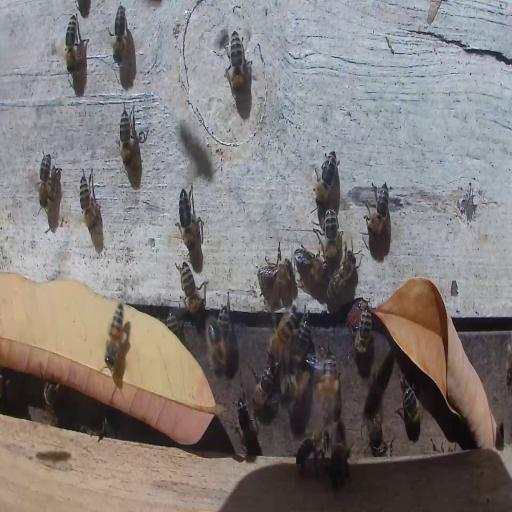bee: (328, 237, 358, 301), (103, 300, 128, 373), (315, 352, 340, 424), (312, 148, 339, 208), (177, 184, 201, 250), (177, 262, 203, 318), (295, 430, 330, 471), (266, 313, 296, 360), (365, 180, 391, 234), (208, 320, 230, 381), (79, 168, 99, 235), (258, 258, 293, 296), (236, 394, 257, 456), (352, 300, 374, 356), (329, 436, 352, 488), (228, 30, 246, 95), (319, 207, 340, 262), (400, 378, 422, 428), (118, 106, 135, 169), (253, 366, 276, 412), (111, 3, 127, 65), (296, 251, 328, 282), (294, 307, 312, 357), (38, 150, 52, 212), (65, 13, 77, 76), (44, 380, 60, 424), (312, 340, 336, 367), (368, 408, 382, 446), (371, 441, 393, 456), (322, 430, 330, 458)
